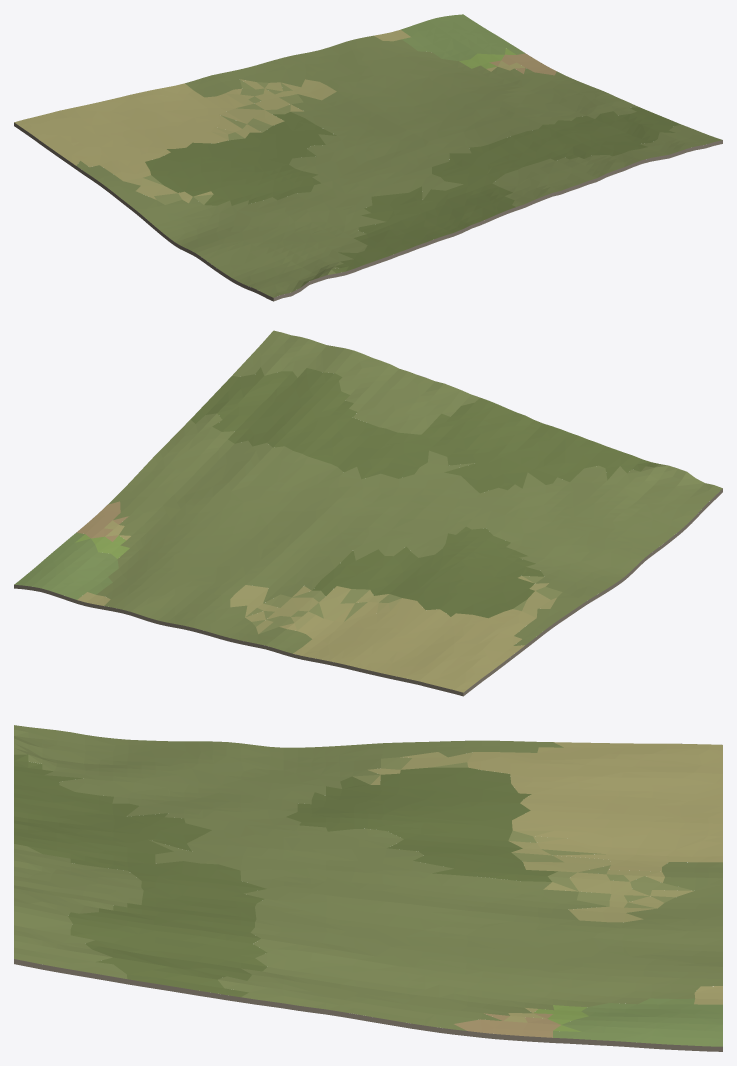
Rendered from parca_+5_-3-uzak.glb.
3 renders of one model, top to bottom at view 1: azimuth 30°, elevation 25°; view 2: azimuth 150°, elevation 25°; view 3: azimuth 270°, elevation 25°, orthographic. The views are drawn at different scales.
Visible parts, largest first — view 1: parca_+5_-3_arazi_uzak; view 2: parca_+5_-3_arazi_uzak; view 3: parca_+5_-3_arazi_uzak.
Part boxes in pixels (x1=…): parca_+5_-3_arazi_uzak: x1=14, y1=14, x2=722, y2=301; parca_+5_-3_arazi_uzak: x1=14, y1=330, x2=722, y2=696; parca_+5_-3_arazi_uzak: x1=14, y1=725, x2=722, y2=1051.
Size of the model in its own units: 1000 by 147 by 1000.
